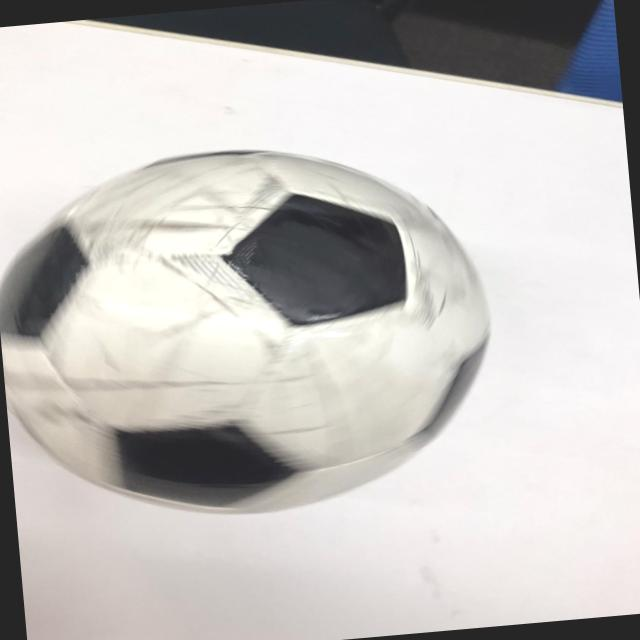Soccer Ball: (0, 130, 487, 542)
